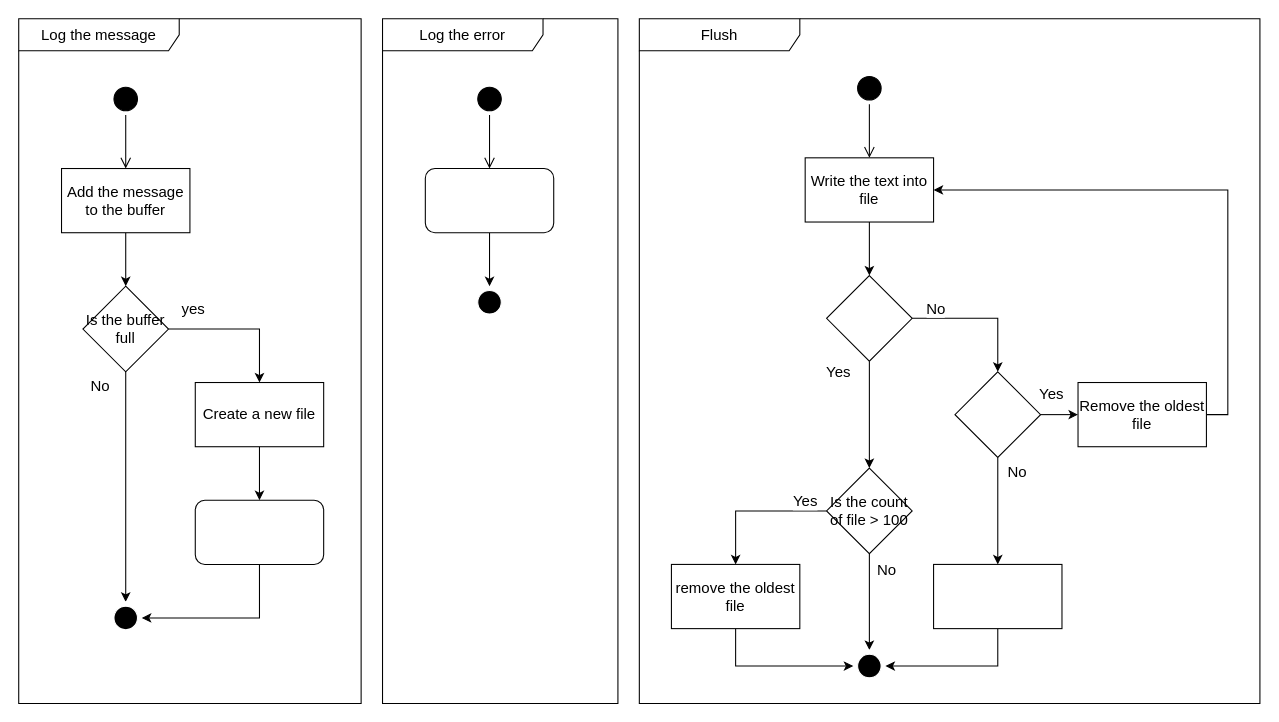
This 1279x722 diagram has some shape labels left out. Each missing label, with the centre of its shape:
Flush the error into error.log: pixel 489 200
Flush the message into it: pixel 259 531
Is the retry times < 3: pixel 997 414
Is writing successful: pixel 869 317
Throw an error: pixel 997 596
